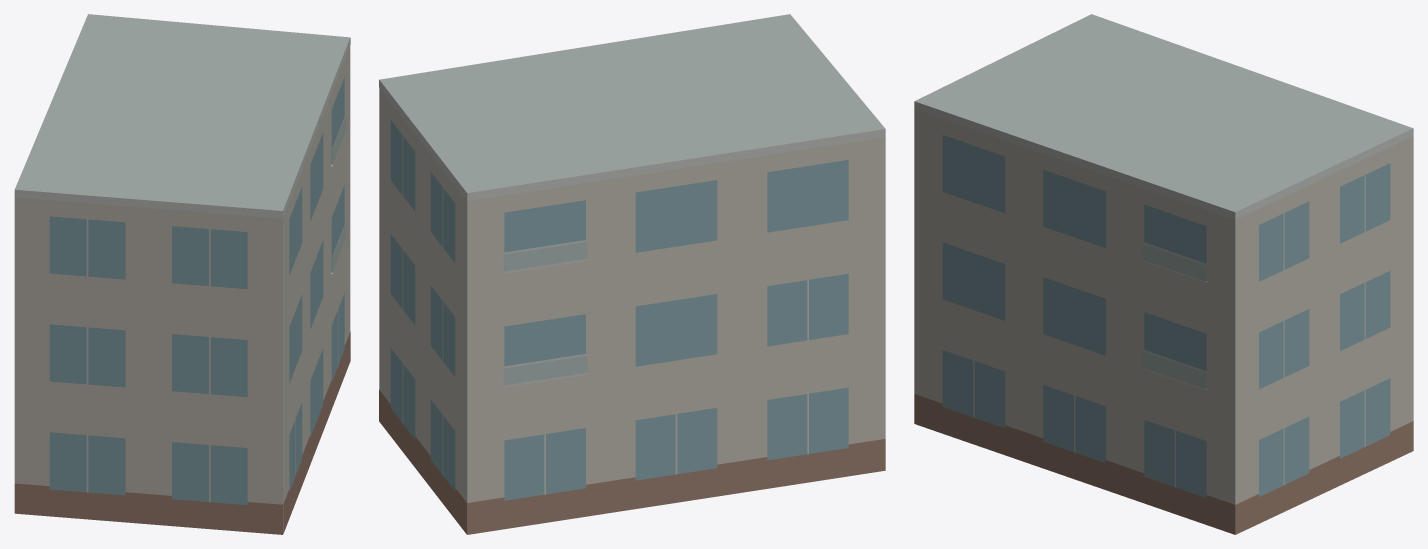
The model's file is survey-upis-32917817.glb.
3 renders of one model, left to right at view 1: azimuth 30°, elevation 25°; view 2: azimuth 150°, elevation 25°; view 3: azimuth 270°, elevation 25°, orthographic. The views are drawn at different scales.
Parts seen in each view (by area): view 1: survey-upis-32917817.tmp; view 2: survey-upis-32917817.tmp; view 3: survey-upis-32917817.tmp.
Boxes of the visible parts, x1,y1,x2,y2 form: survey-upis-32917817.tmp: (14,14,350,534); survey-upis-32917817.tmp: (379,14,885,534); survey-upis-32917817.tmp: (914,14,1413,534).
Bounding box in the file's own units: 13.58 × 10.3 × 14.45.
